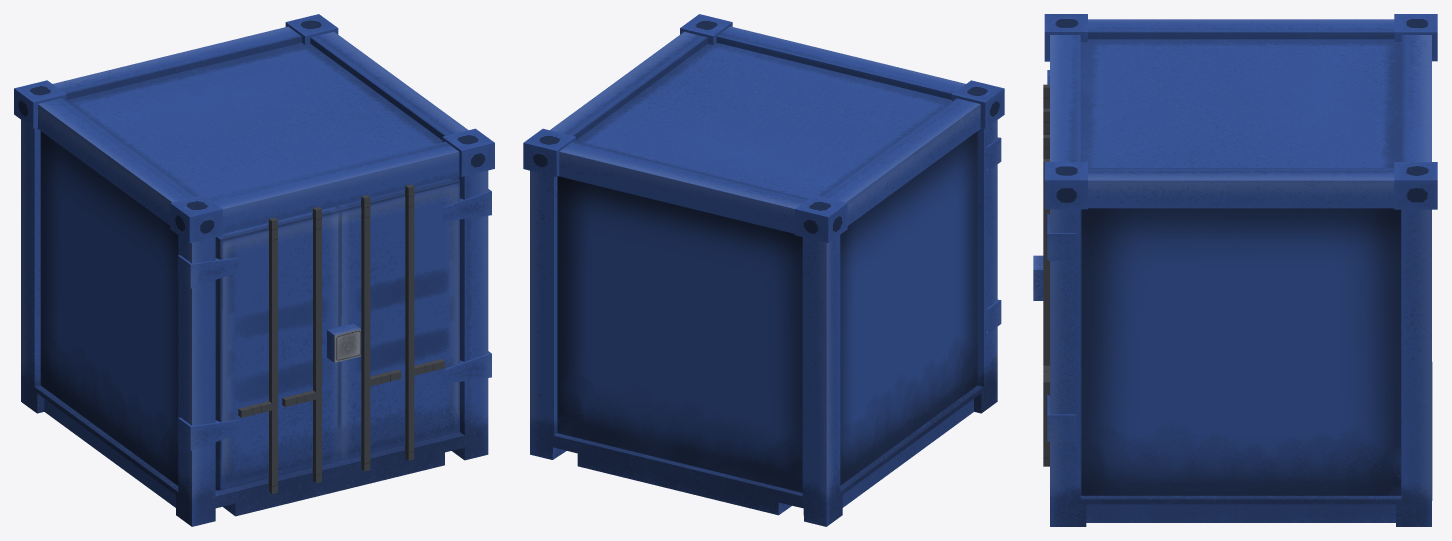
File: cargo cube.fbx
3 renders of one model, left to right at view 1: azimuth 30°, elevation 25°; view 2: azimuth 150°, elevation 25°; view 3: azimuth 270°, elevation 25°, orthographic. The views are drawn at different scales.
Visible parts, largest first — view 1: Cargo Cube; view 2: Cargo Cube; view 3: Cargo Cube.
Boxes of the visible parts, box(x1,y1,x2,y2) form: Cargo Cube: box(14, 14, 494, 526); Cargo Cube: box(523, 14, 1004, 526); Cargo Cube: box(1033, 14, 1437, 526).
Size of the model in its own units: 5.15 by 5.04 by 5.29.
